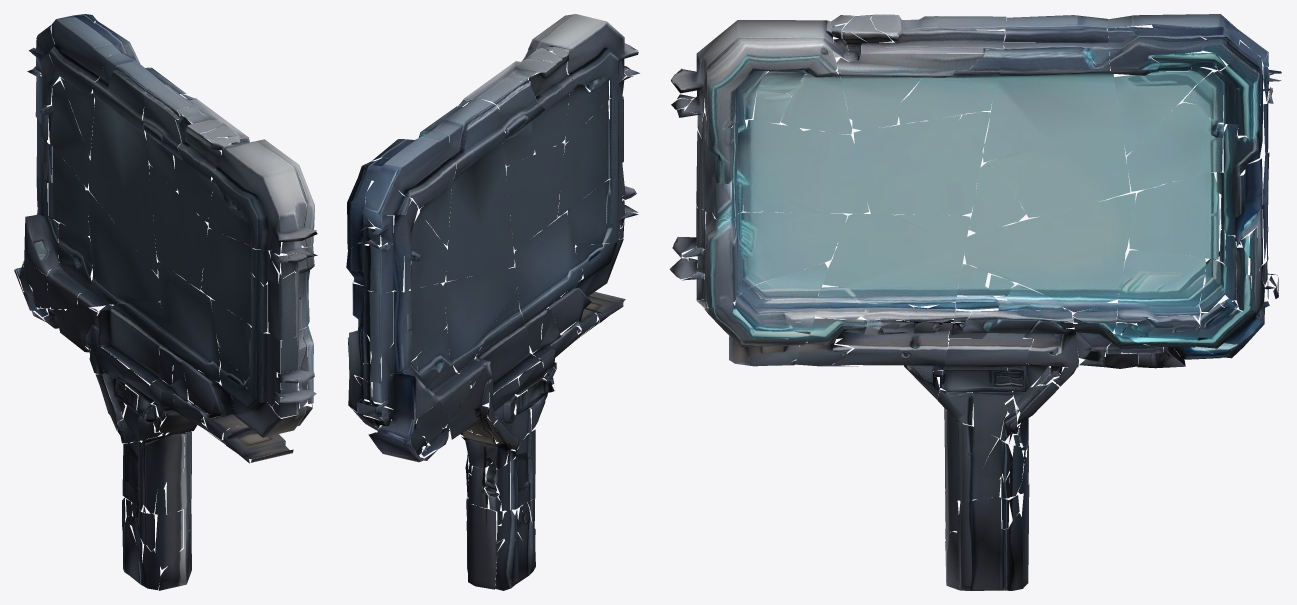
Rendered from billboard_frame.glb.
3 views of the same model, side by side, from view 1: azimuth 30°, elevation 25°; view 2: azimuth 150°, elevation 25°; view 3: azimuth 270°, elevation 25° (orthographic). The views are drawn at different scales.
Parts seen in each view (by area): view 1: tripo_node_57b7b780-4015-4df2-812c-0bc559cfc8df; view 2: tripo_node_57b7b780-4015-4df2-812c-0bc559cfc8df; view 3: tripo_node_57b7b780-4015-4df2-812c-0bc559cfc8df.
Part boxes in pixels (x1,y1,x2,y2): tripo_node_57b7b780-4015-4df2-812c-0bc559cfc8df: [14, 14, 317, 590]; tripo_node_57b7b780-4015-4df2-812c-0bc559cfc8df: [346, 14, 639, 590]; tripo_node_57b7b780-4015-4df2-812c-0bc559cfc8df: [669, 14, 1281, 590].
Size of the model in its own units: 0.1637 by 1 by 0.9844.
Materials: 1 (1 with a texture image).
